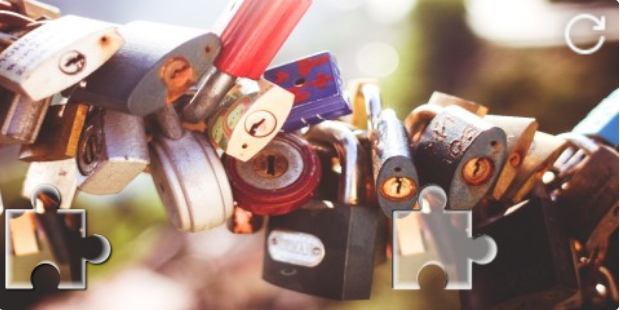target: (392, 184, 498, 290)
